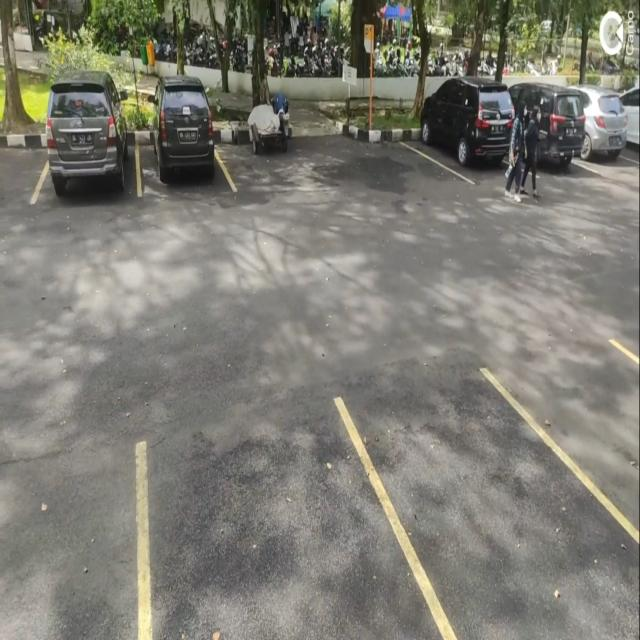empty: (138, 402, 388, 640), (388, 371, 600, 639)
occupied: (33, 90, 137, 208), (139, 75, 221, 199), (420, 79, 510, 179)
